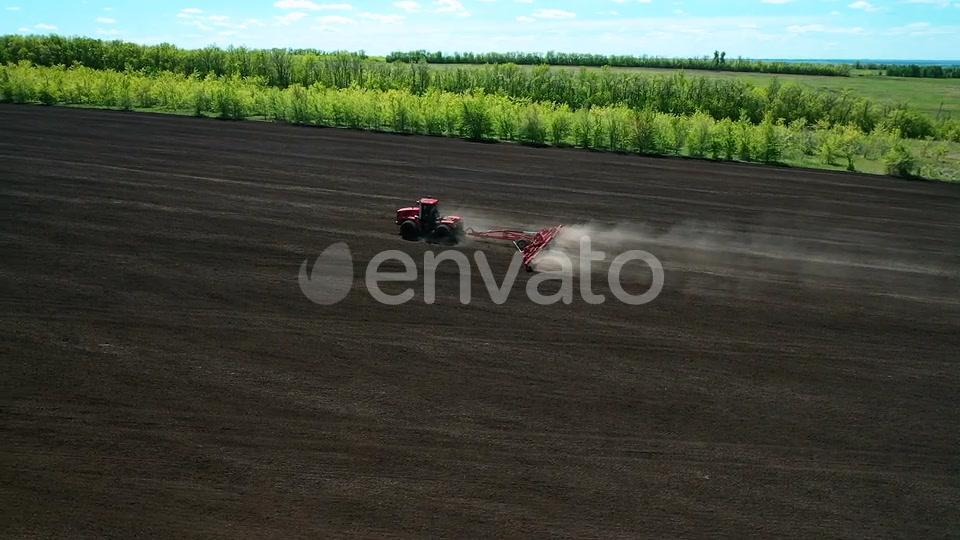tractor: (395, 195, 467, 249)
